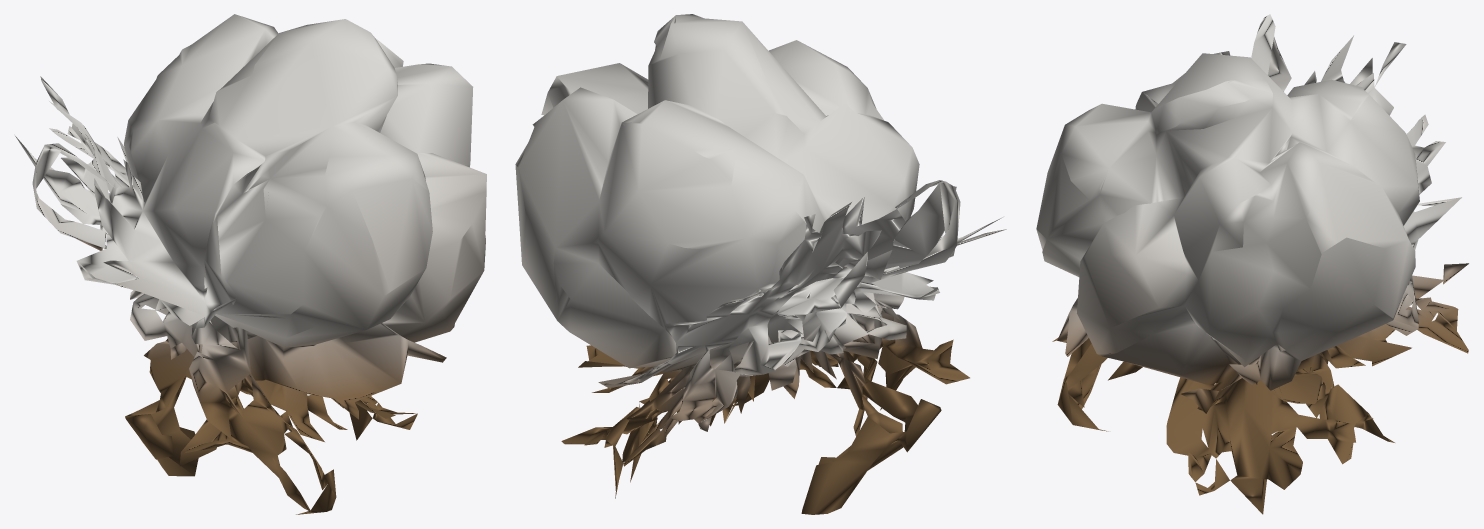
File: cotton-boll-lo.glb
3 renders of one model, left to right at view 1: azimuth 30°, elevation 25°; view 2: azimuth 150°, elevation 25°; view 3: azimuth 270°, elevation 25°, orthographic. The views are drawn at different scales.
Bounding box in the file's own units: 1.91 × 1.94 × 1.79.
